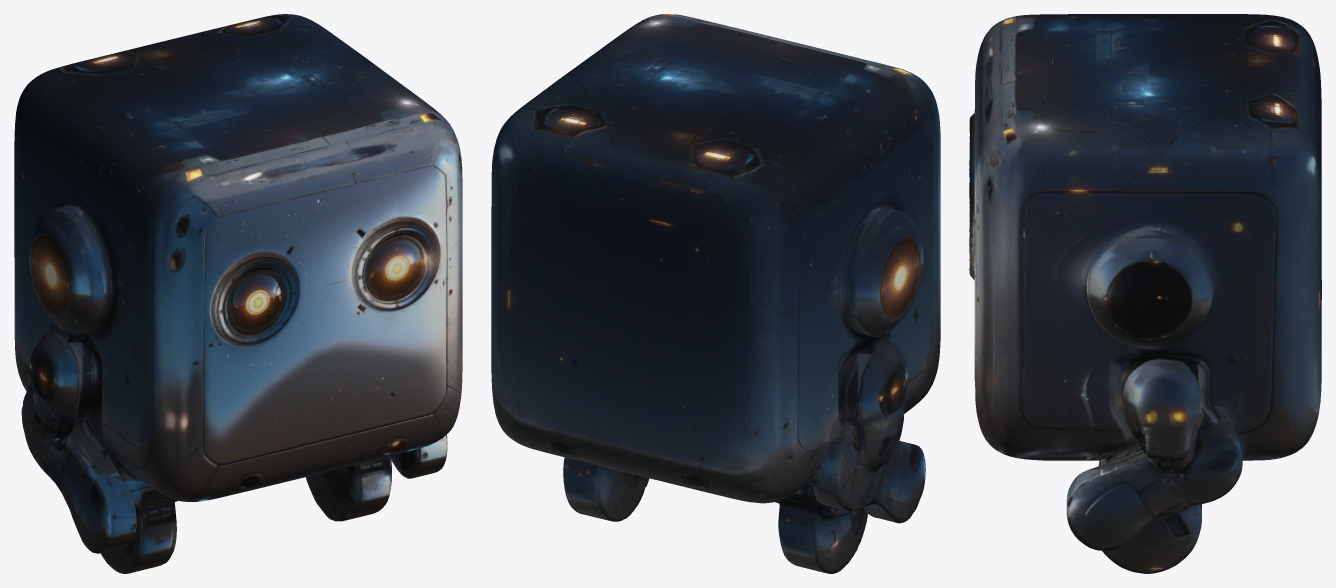
Rendered from 1_x_1_sq_floating_p_0926155445_refine.fbx.
The picture shows the model from 3 angles, left to right: view 1: azimuth 30°, elevation 25°; view 2: azimuth 150°, elevation 25°; view 3: azimuth 270°, elevation 25°; orthographic projection.
Visible parts, largest first — view 1: Mesh_0; view 2: Mesh_0; view 3: Mesh_0.
Part boxes in pixels (x1,y1,x2,y2): Mesh_0: (14,14,462,573); Mesh_0: (491,14,940,573); Mesh_0: (969,14,1321,573).
Size of the model in its own units: 173 by 200 by 144.
1 material, 1 textured.
